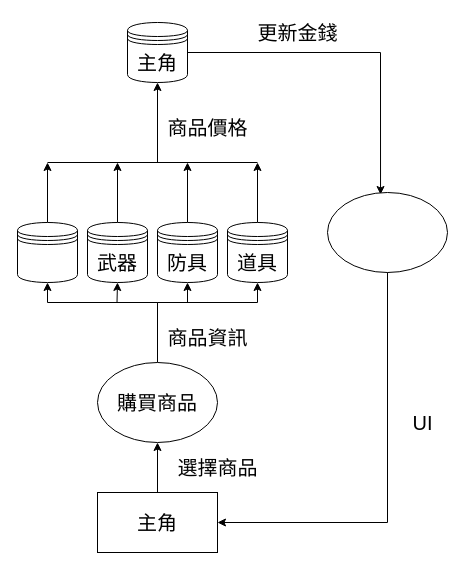
The diagram is 465 pixels wide and 570 high, and some of its shapes have lost their labels. Each missing label, with the box of its shape:
更新UI: (326, 192, 448, 272)
飾品: (16, 222, 78, 282)
